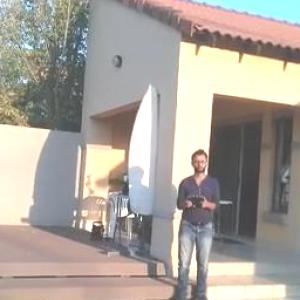follow: (167, 143, 224, 299)
